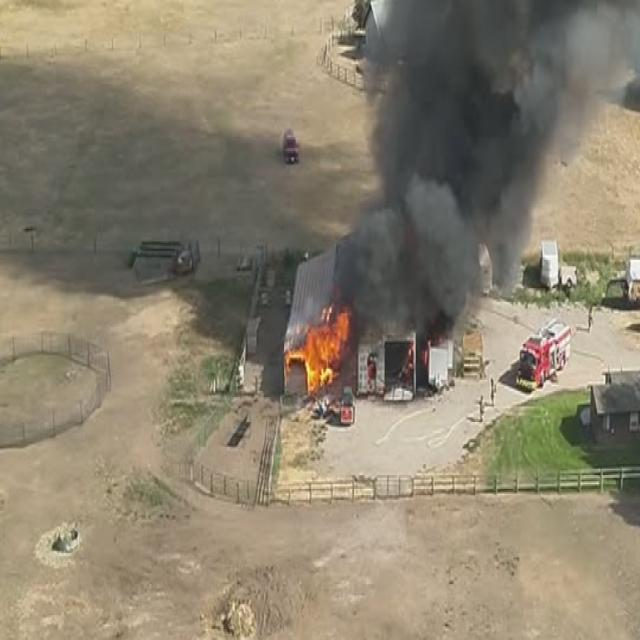fire: (284, 324, 341, 399)
